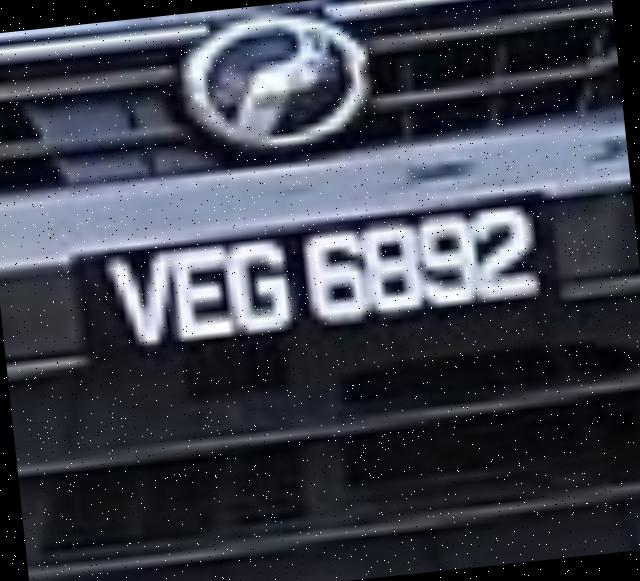License_Plate: (43, 164, 593, 411)
